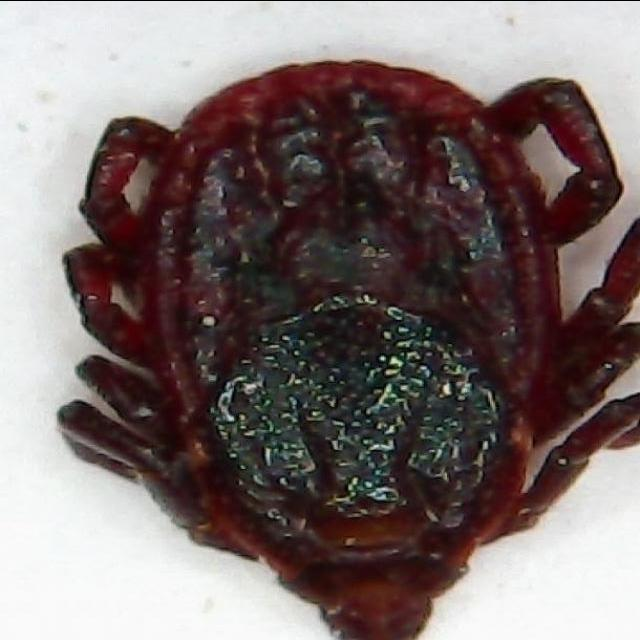Rhipicephalus Sanguineus-F: (58, 64, 640, 640)
